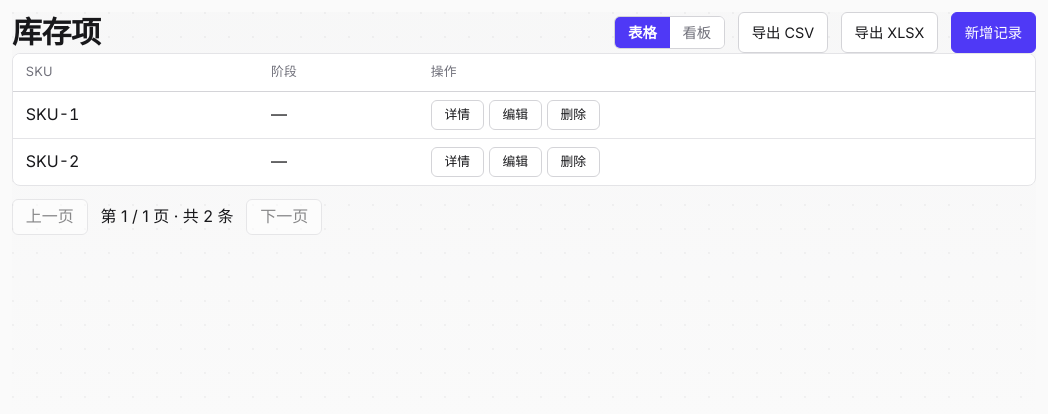
Test: DynamicEntityView：看板呈现切换（P17） › 切看板按 100 条页拉取并渲染分列
The width and height of the screenshot is (1048, 414).
Click the button with test id "kanban-toggle" at {"x": 697, "y": 32}, box [670,17,724,48]
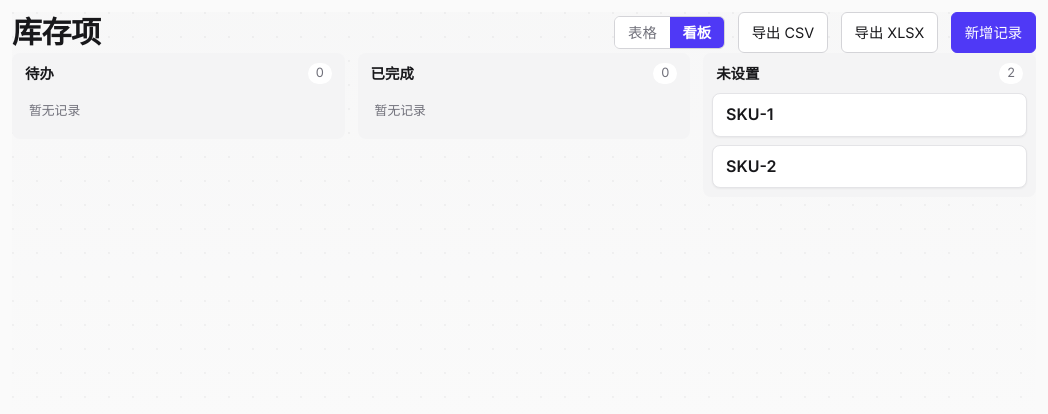
Result: the element with test id "kanban-view" is shown at [12,53,1036,205]
Result: the element with test id "kanban-view" shows "SKU-1" at [712,93,1027,137]
